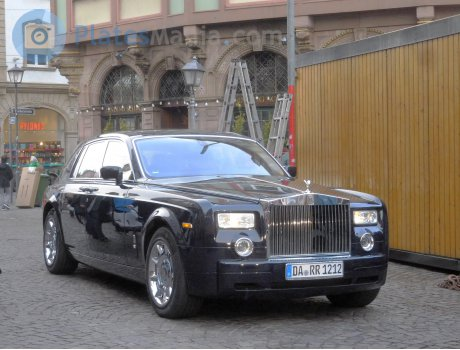License Plates: (291, 263, 337, 275)
